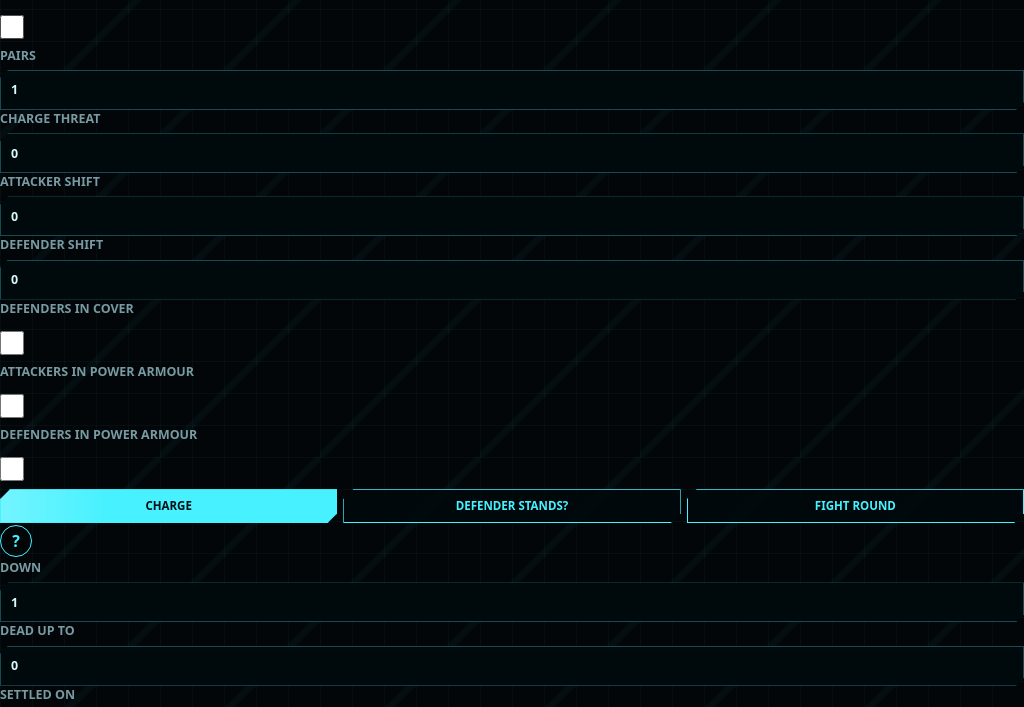
Test: StarGrunt close assault › sends the power armour the table said its men are wearing
(page scrolled)
Expected: the button "Fight Round" is shown, left=687, top=489, right=1023, bottom=523
What coordinates should you click on to do the following:
click the checkbox labelled "Attackers in power armour"
I would click on:
 (12, 406)
Its box is left=0, top=394, right=24, bottom=418.
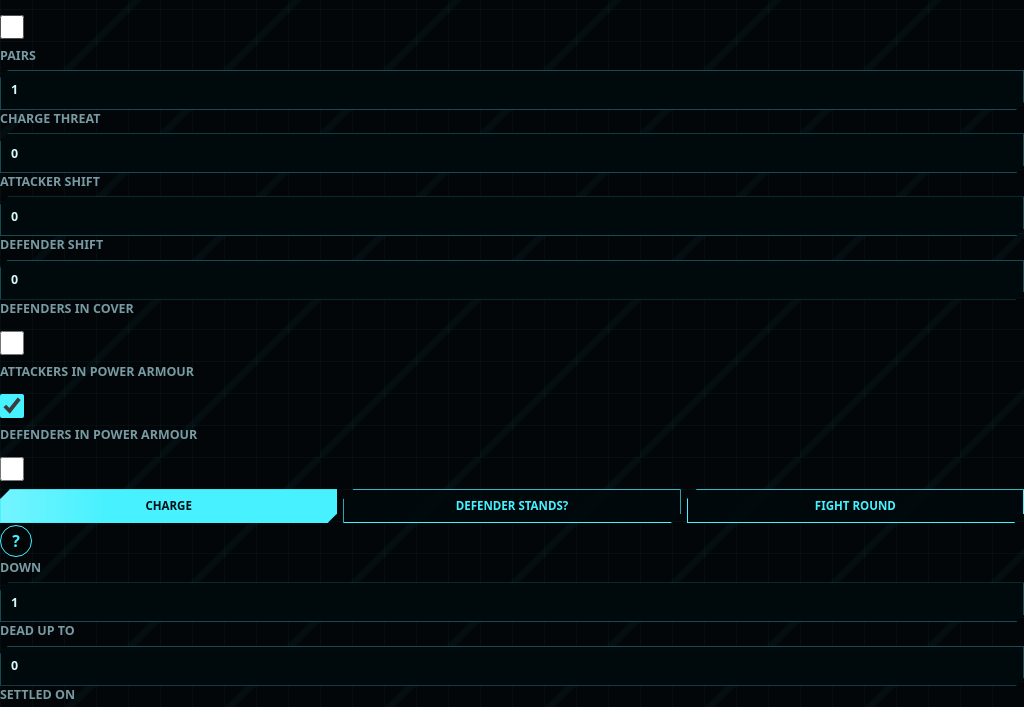
What coordinates should you click on to do the following:
click the checkbox labelled "Defenders in power armour"
I would click on:
 (12, 469)
Its box is left=0, top=457, right=24, bottom=481.
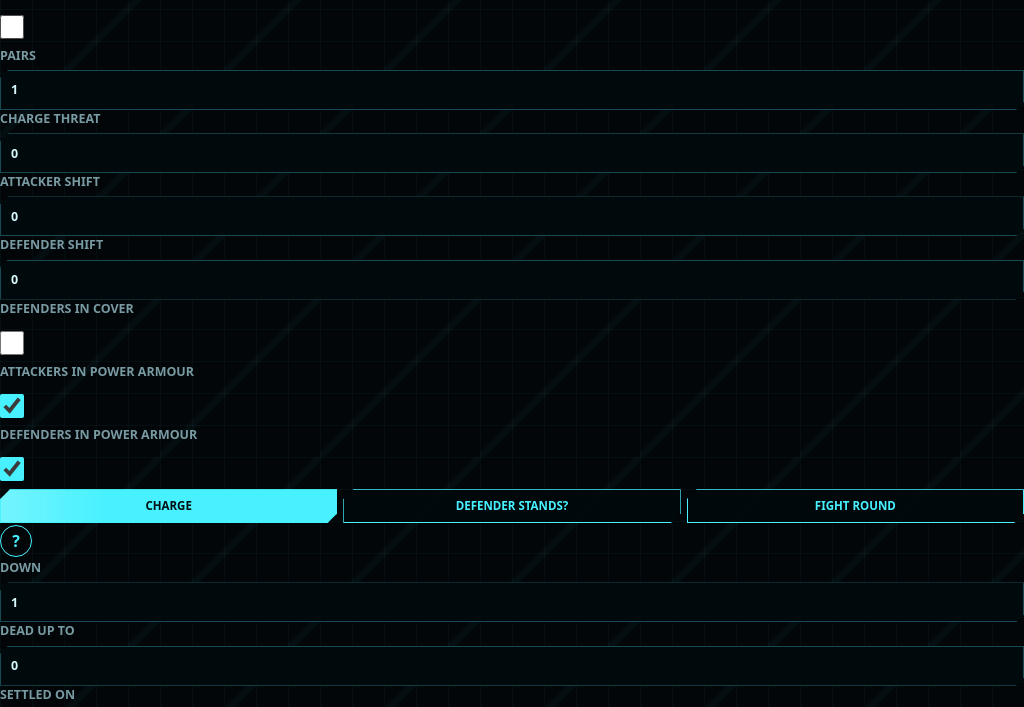
What coordinates should you click on to do the following:
click the button "Fight Round"
I would click on:
 (855, 506)
Its box is left=687, top=489, right=1023, bottom=523.
(page scrolled)
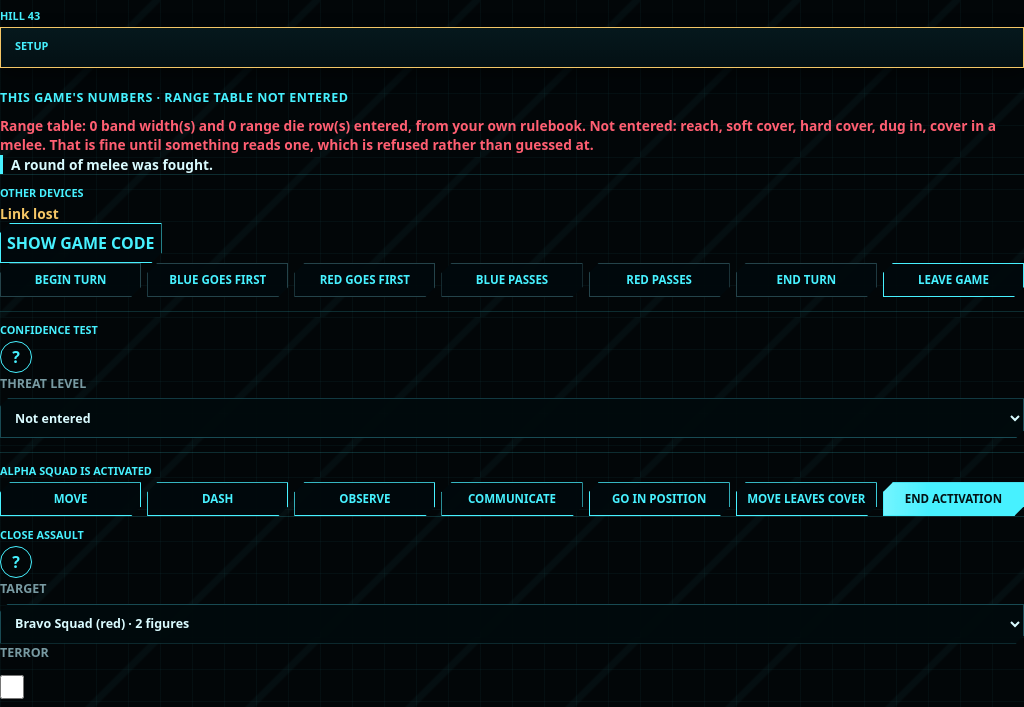
Expected: the text "A round of melee was fought." is shown, left=0, top=154, right=1023, bottom=174
